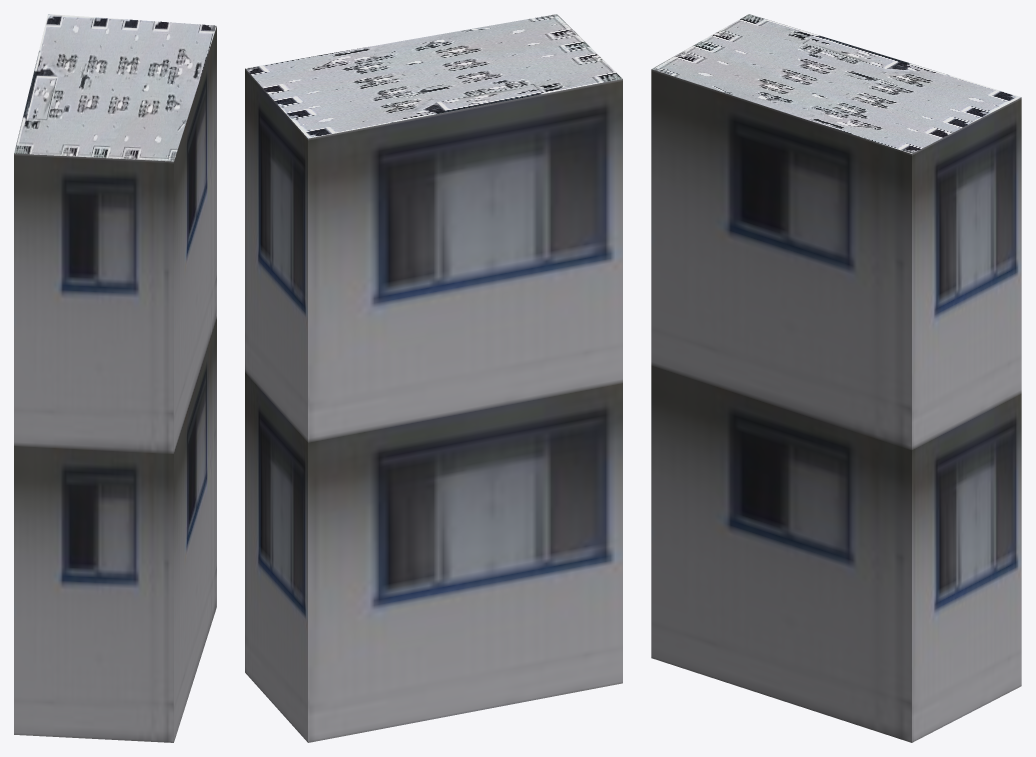
Rendered from ResTex__2454.fbx.
3 renders of one model, left to right at view 1: azimuth 30°, elevation 25°; view 2: azimuth 150°, elevation 25°; view 3: azimuth 270°, elevation 25°, orthographic. The views are drawn at different scales.
Parts seen in each view (by area): view 1: CityEngineMaterial_9_m, CityEngineMaterial_8_m; view 2: CityEngineMaterial_9_m, CityEngineMaterial_8_m; view 3: CityEngineMaterial_9_m, CityEngineMaterial_8_m.
Part boxes in pixels (x1,y1,x2,y2): CityEngineMaterial_9_m: (14,26,216,742); CityEngineMaterial_8_m: (14,14,216,161); CityEngineMaterial_9_m: (245,68,622,742); CityEngineMaterial_8_m: (245,14,622,138); CityEngineMaterial_9_m: (651,69,1021,742); CityEngineMaterial_8_m: (651,14,1020,153).
Size of the model in its own units: 3.06 by 6 by 3.42.
2 materials, 2 textured.
